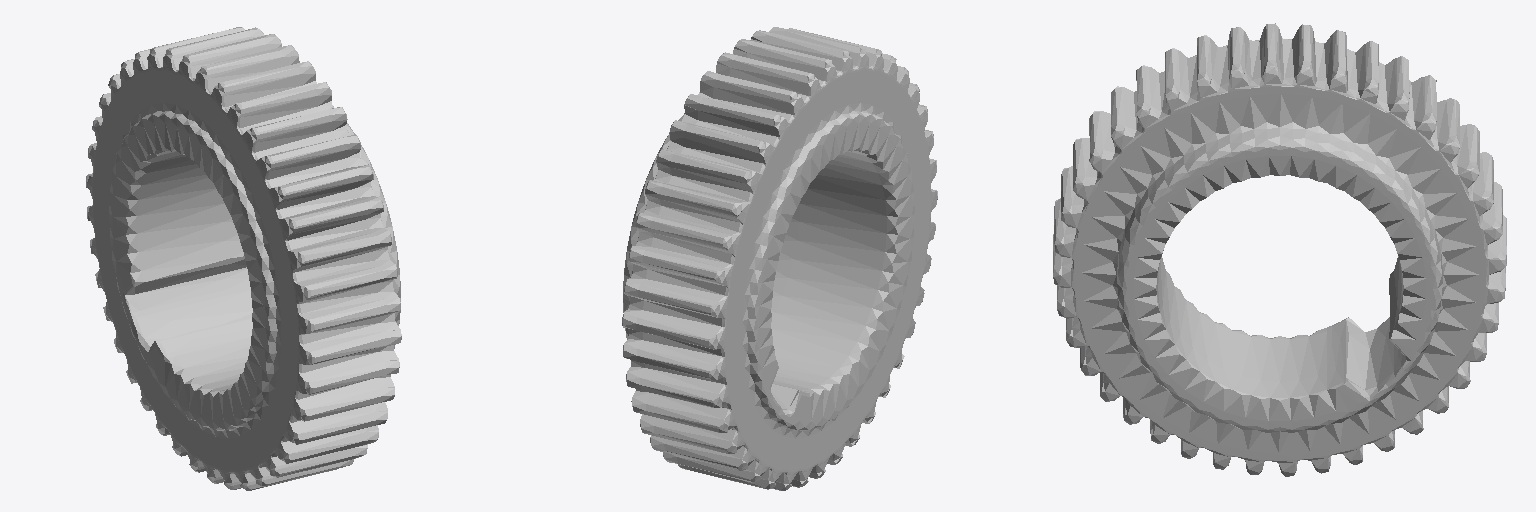
The model's file is gear_fixed_normals.obj.
3 renders of one model, left to right at view 1: azimuth 30°, elevation 25°; view 2: azimuth 150°, elevation 25°; view 3: azimuth 270°, elevation 25°, orthographic.
Parts seen in each view (by area): view 1: Gear1; view 2: Gear1; view 3: Gear1.
Part boxes in pixels (x1,y1,x2,y2): Gear1: (86,27,401,490); Gear1: (622,27,937,490); Gear1: (1053,23,1506,476).
Bounding box in the file's own units: 2.13 × 6.24 × 6.24.